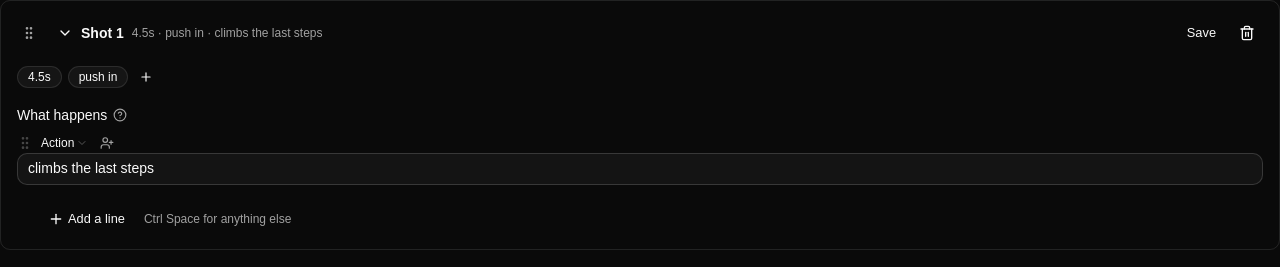
it: ShotRow › folds a shot away and opens it again
The width and height of the screenshot is (1280, 267).
Click the button "Shot 1 4.5s · push in · climbs the last steps" at (98, 33), box [49,19,1168,47]
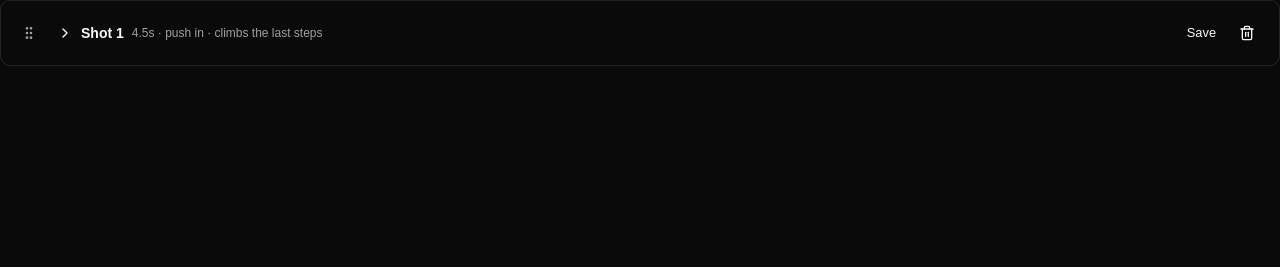
Click the button "Shot 1 4.5s · push in · climbs the last steps" at (98, 33), box [49,19,1168,47]
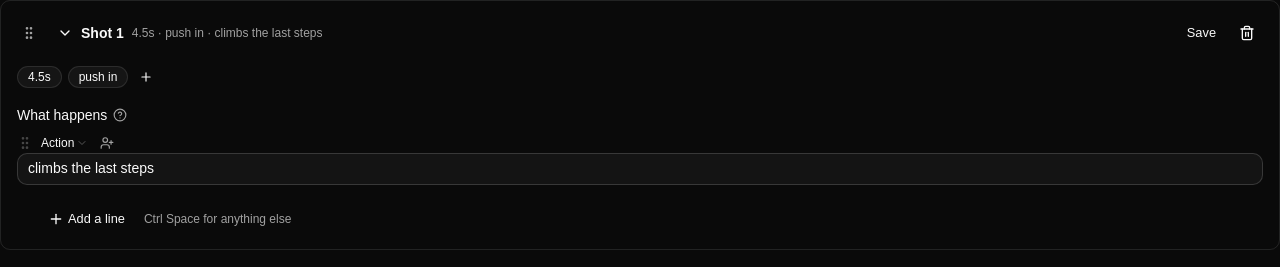
Now the text box named "Line 1 of shot 11" is shown, box [17,153,1263,185]
